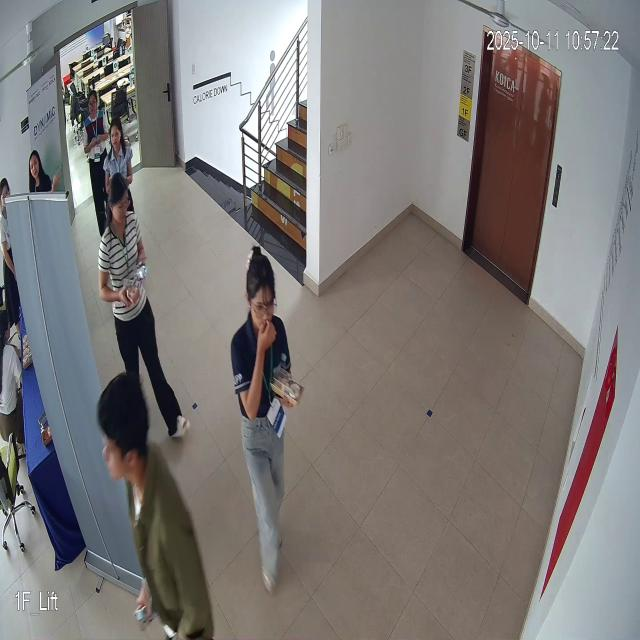face: (243, 243, 279, 336), (106, 170, 132, 228)
